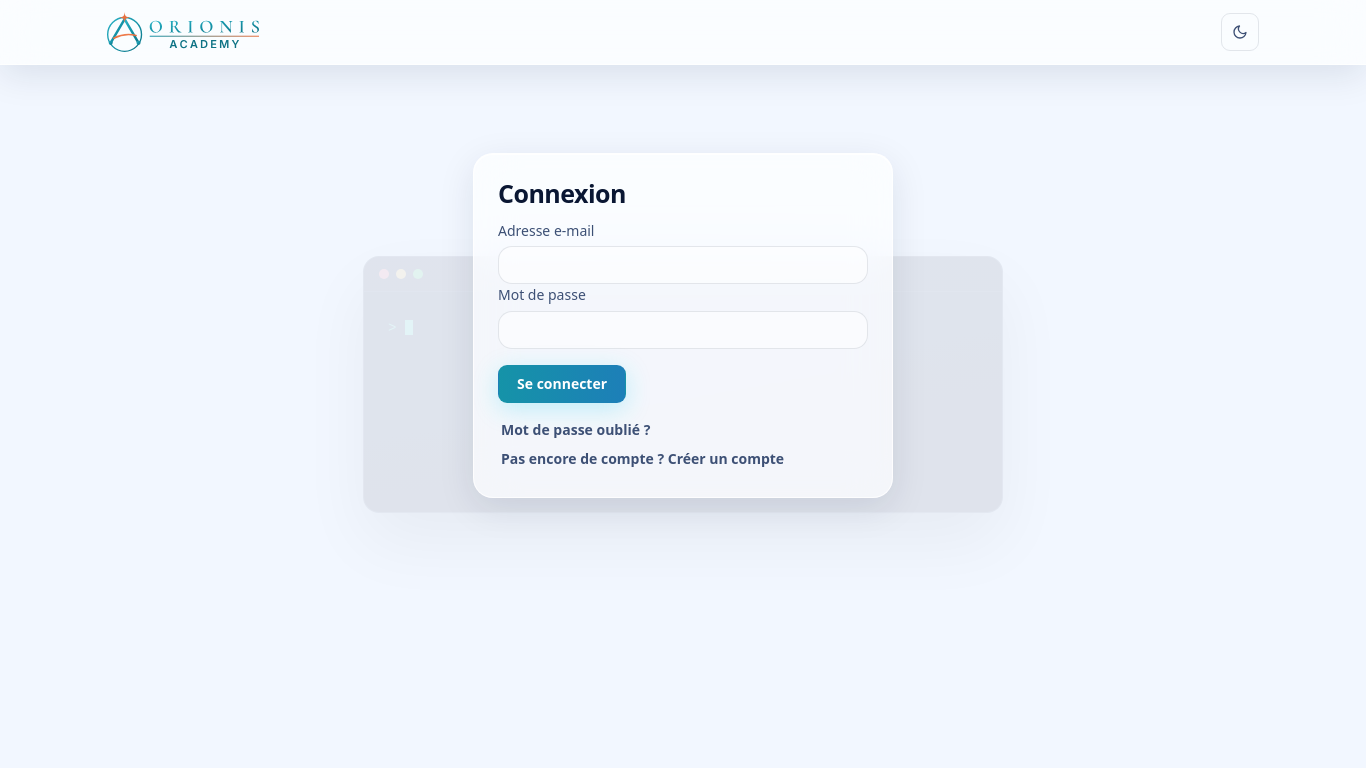
Test case: AuthScreen › toggles to register mode and shows the name fields
Click the button "Pas encore de compte ? Créer un compte". click: x=643, y=458
box: [498, 444, 787, 473]
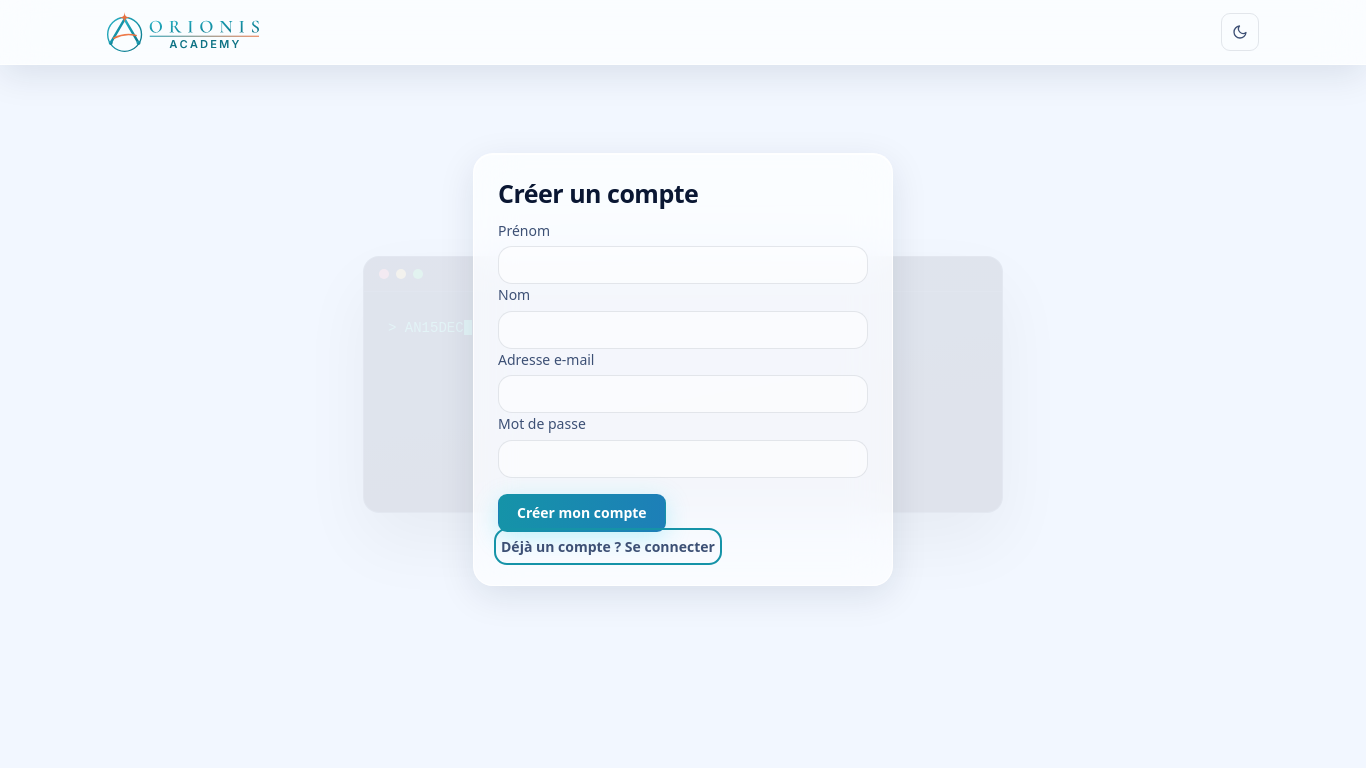
Expected: the field labelled "Prénom" is shown, [498, 246, 868, 284]
Result: the button "Créer mon compte" is shown at [498, 494, 666, 532]
